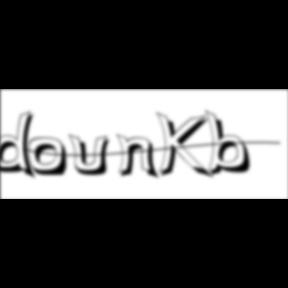K: (156, 110, 216, 182)
b: (206, 109, 258, 179)
d: (0, 110, 42, 182)
n: (116, 132, 164, 181)
o: (28, 137, 70, 179)
u: (68, 132, 116, 178)
